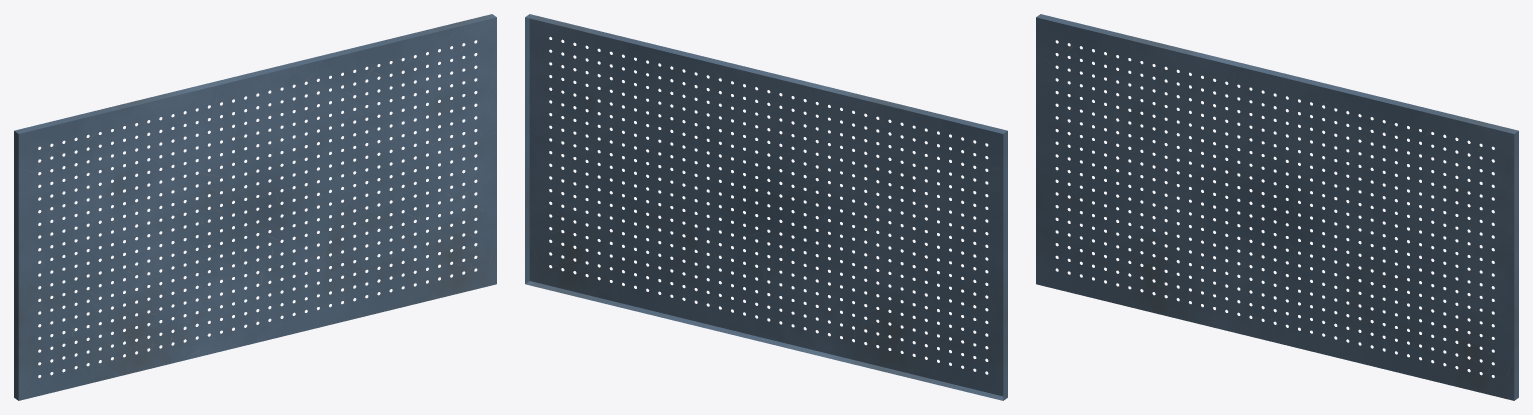
The model's file is lochwand_platte.obj.
3 renders of one model, left to right at view 1: azimuth 30°, elevation 25°; view 2: azimuth 150°, elevation 25°; view 3: azimuth 330°, elevation 25°, orthographic.
Visible parts, largest first — view 1: Lochwand_Platte; view 2: Lochwand_Platte; view 3: Lochwand_Platte.
Boxes of the visible parts, <box> form: Lochwand_Platte: <box>14,14,496,400</box>; Lochwand_Platte: <box>525,14,1007,400</box>; Lochwand_Platte: <box>1036,14,1518,400</box>.
Bounding box in the file's own units: 1.5 × 0.8 × 0.025.
Materials: 1 (1 with a texture image).
